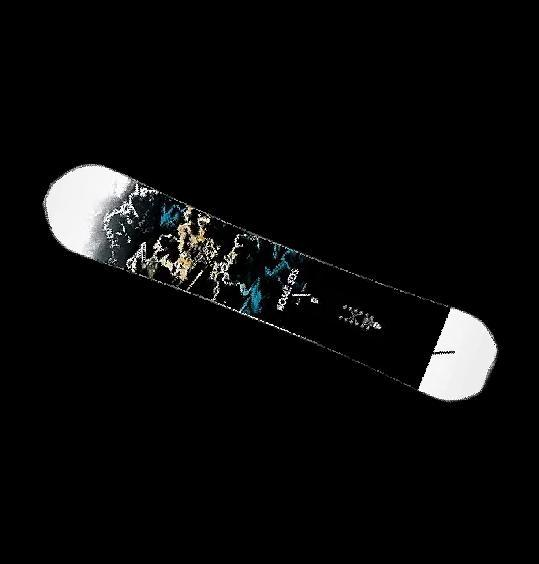Snowboard: (42, 162, 498, 402)
